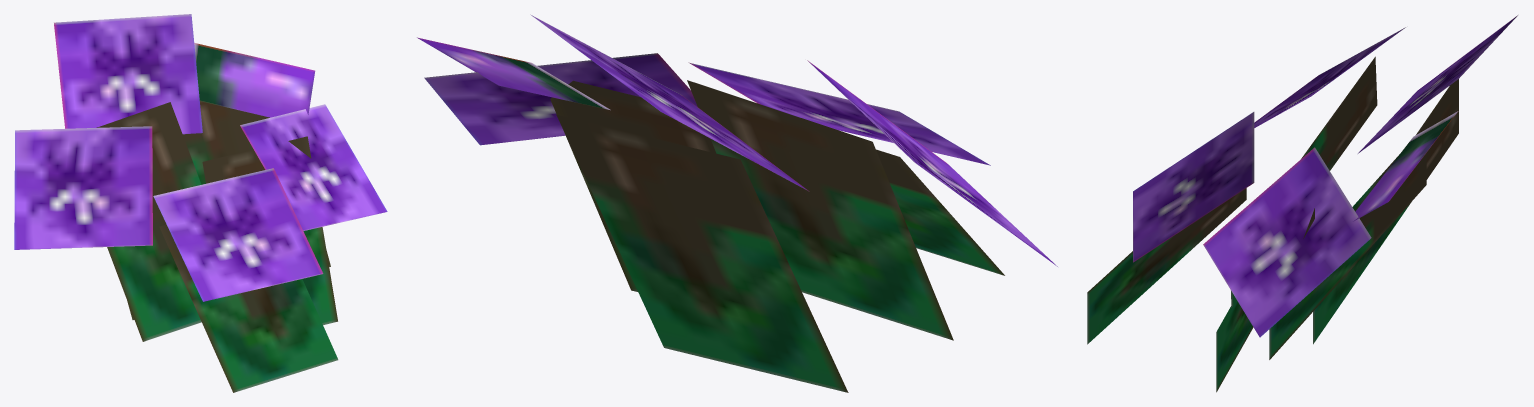
The model's file is flw_violet_vi.dae.
The picture shows the model from 3 angles, left to right: view 1: azimuth 30°, elevation 25°; view 2: azimuth 150°, elevation 25°; view 3: azimuth 270°, elevation 25°; orthographic projection. The views are drawn at different scales.
Visible parts, largest first — view 1: flw_violet_vi; view 2: flw_violet_vi; view 3: flw_violet_vi.
Part boxes in pixels (x1=…): flw_violet_vi: x1=14, y1=14, x2=387, y2=392; flw_violet_vi: x1=417, y1=14, x2=1057, y2=392; flw_violet_vi: x1=1087, y1=15, x2=1517, y2=392.
Bounding box in the file's own units: 29.91 × 19.78 × 26.85.
Materials: 1 (1 with a texture image).
